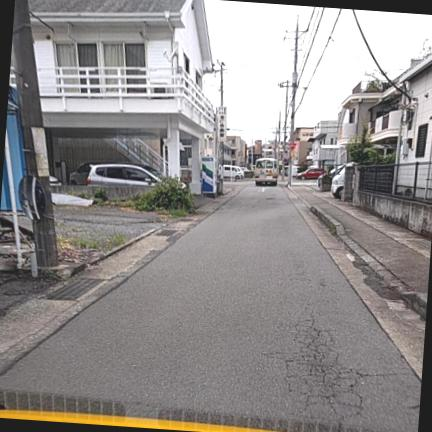Road: (0, 184, 420, 431)
